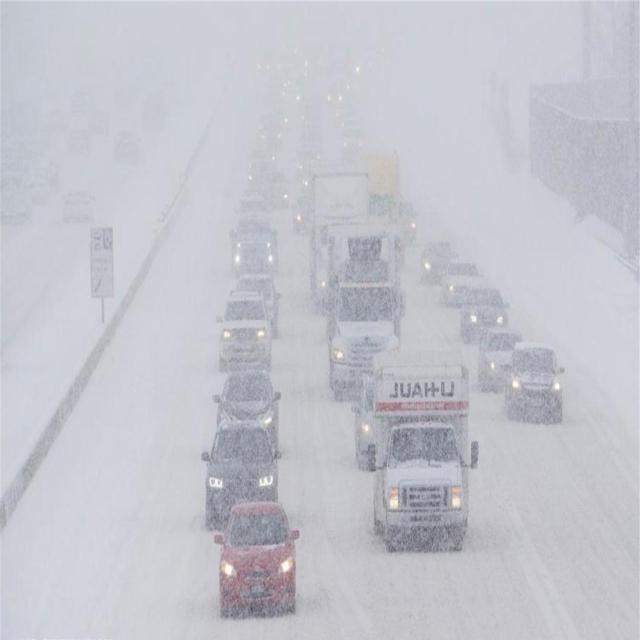Car: (35, 530, 335, 600)
